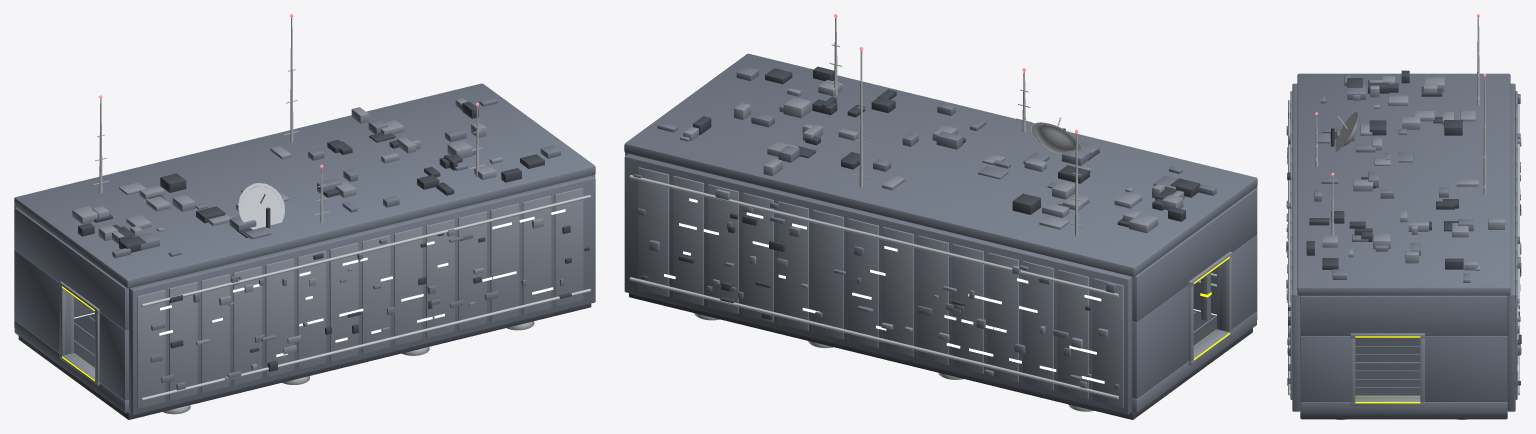
The model's file is bunker.glb.
3 views of the same model, side by side, from view 1: azimuth 30°, elevation 25°; view 2: azimuth 150°, elevation 25°; view 3: azimuth 270°, elevation 25° (orthographic). The views are drawn at different scales.
Parts seen in each view (by area): view 1: Bunker_BunkerHull, Bunker_BunkerPlate, Bunker_BunkerDark, Bunker_Steel, Dish_Steel, Bunker_Window; view 2: Bunker_BunkerHull, Bunker_BunkerPlate, Bunker_BunkerDark, Bunker_Steel, Bunker_Window, Dish_Steel; view 3: Bunker_BunkerHull, Bunker_BunkerDark, Bunker_BunkerPlate, Bunker_Steel, Dish_Steel, Bunker_Hazard.
Part boxes in pixels (x1=…): Bunker_BunkerHull: x1=14, y1=83, x2=595, y2=414; Bunker_BunkerPlate: x1=59, y1=98, x2=583, y2=408; Bunker_BunkerDark: x1=18, y1=101, x2=591, y2=419; Bunker_Steel: x1=93, y1=17, x2=590, y2=414; Dish_Steel: x1=238, y1=182, x2=284, y2=229; Bunker_Window: x1=159, y1=209, x2=565, y2=357; Bunker_BunkerHull: x1=624, y1=53, x2=1257, y2=414; Bunker_BunkerPlate: x1=638, y1=80, x2=1232, y2=407; Bunker_BunkerDark: x1=629, y1=66, x2=1252, y2=419; Bunker_Steel: x1=629, y1=17, x2=1216, y2=411; Bunker_Window: x1=664, y1=198, x2=1104, y2=383; Dish_Steel: x1=1031, y1=117, x2=1081, y2=153; Bunker_BunkerHull: x1=1286, y1=73, x2=1521, y2=413; Bunker_BunkerDark: x1=1286, y1=70, x2=1521, y2=419; Bunker_BunkerPlate: x1=1286, y1=76, x2=1521, y2=405; Bunker_Steel: x1=1288, y1=17, x2=1519, y2=419; Dish_Steel: x1=1335, y1=111, x2=1357, y2=152; Bunker_Hazard: x1=1355, y1=336, x2=1420, y2=403.
Size of the model in its own units: 318 by 185 by 145.
